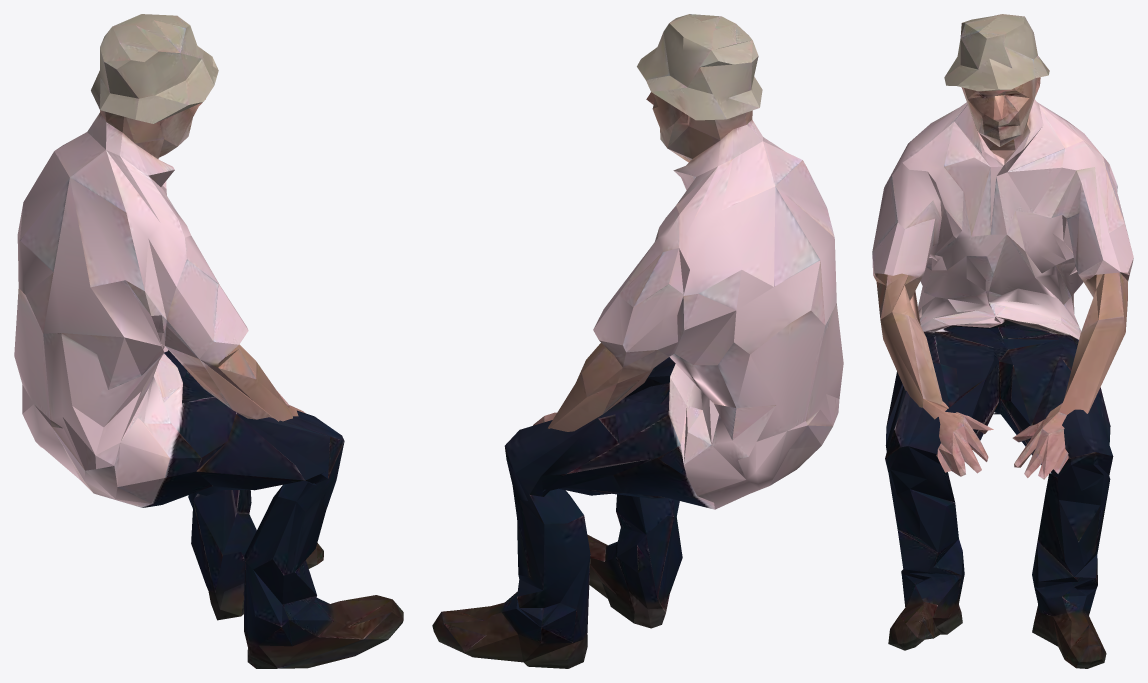
Rendered from crowd-sp-7.glb.
3 renders of one model, left to right at view 1: azimuth 30°, elevation 25°; view 2: azimuth 150°, elevation 25°; view 3: azimuth 270°, elevation 25°, orthographic. The views are drawn at different scales.
Parts seen in each view (by area): view 1: char1; view 2: char1; view 3: char1.
Boxes of the visible parts, x1,y1,x2,y2 form: char1: (14,14,403,668); char1: (432,14,843,668); char1: (872,14,1133,668).
Size of the model in its own units: 0.7438 by 1.37 by 0.5638.
1 material, 1 textured.
